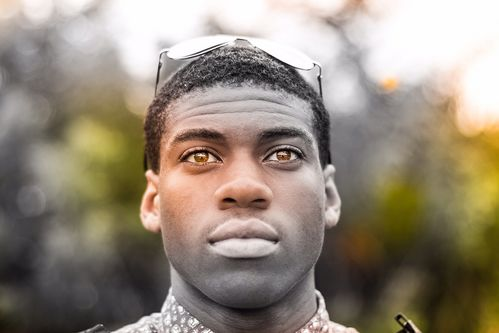no_mask: (151, 70, 328, 303)
